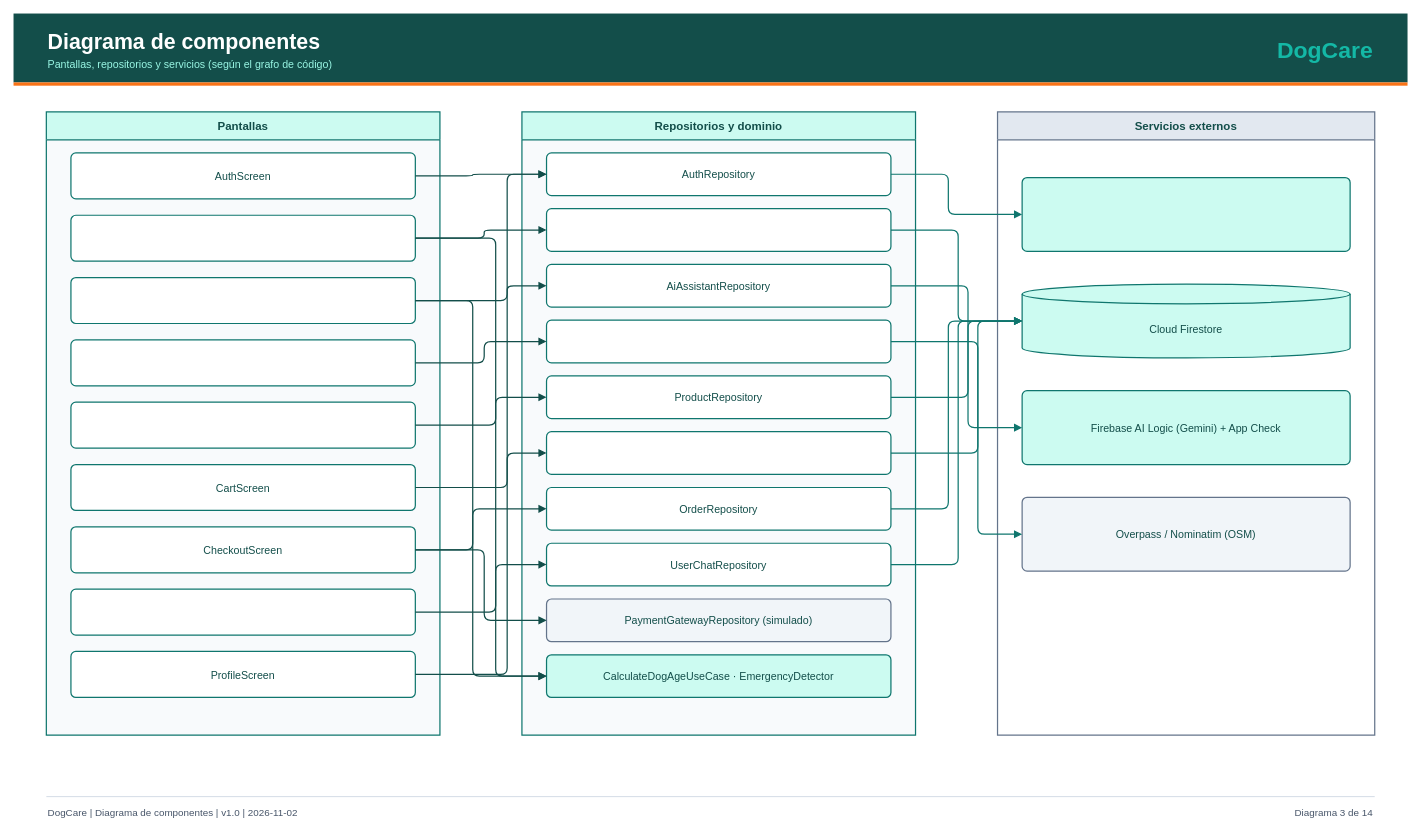
Some shapes in this 1421 by 837 pixel diagram are drawn without their labels. Here are the shapes that lost their labels. From the top down, the centre of each, then its label:
At [718,230]: "PetRepository".
At [1185,214]: "Firebase Authentication".
At [243,237]: "AgeCalculatorScreen".
At [243,300]: "AiChatScreen".
At [718,341]: "VetClinicRepository".
At [243,362]: "VetMapScreen".
At [243,424]: "StoreScreen".
At [718,453]: "CartRepository (en memoria + Firestore)".
At [243,611]: "UserChatScreen".
